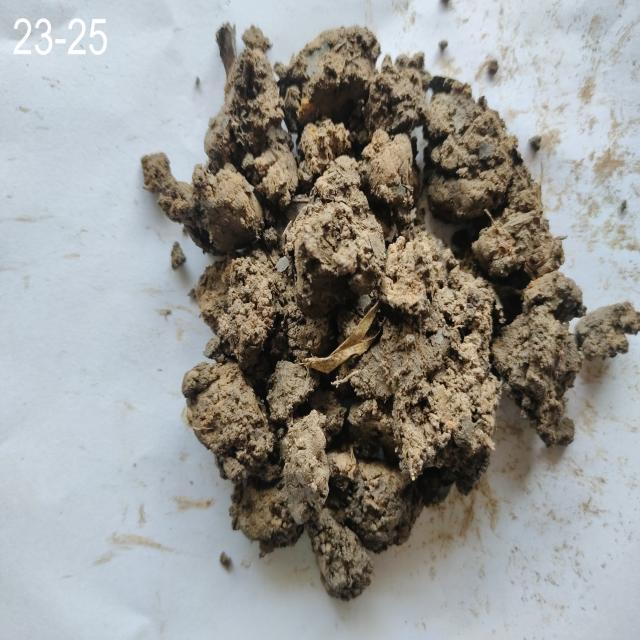soil: (248, 115, 501, 432)
